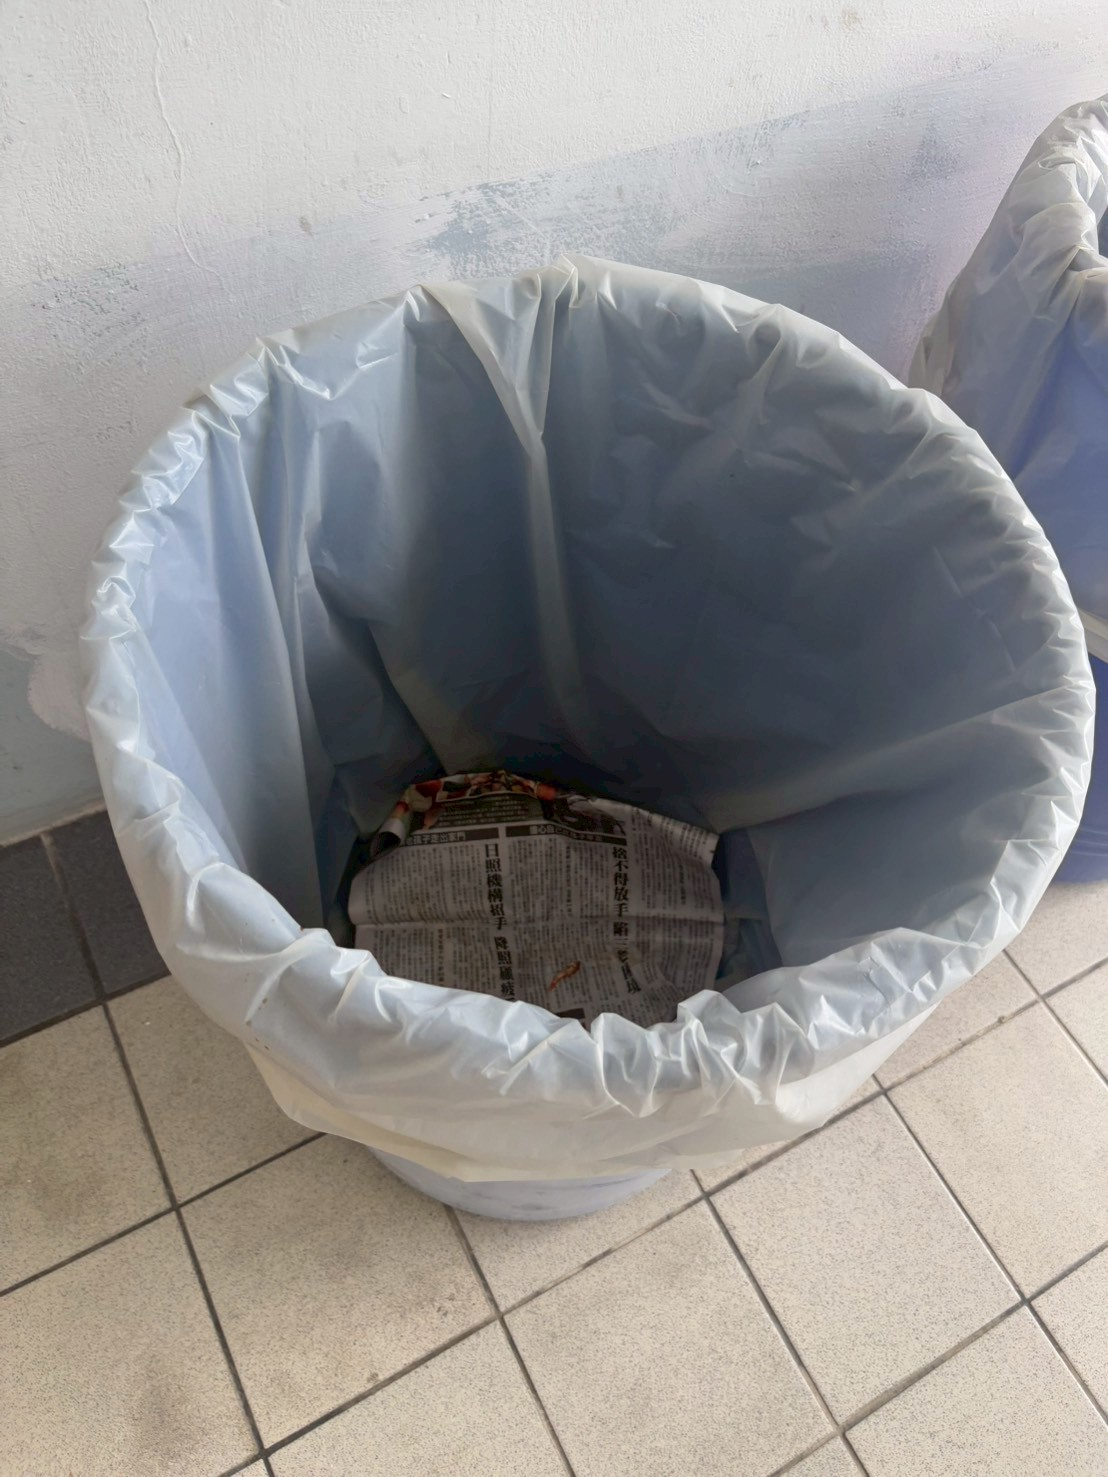normal_bin: (73, 248, 1108, 1267)
